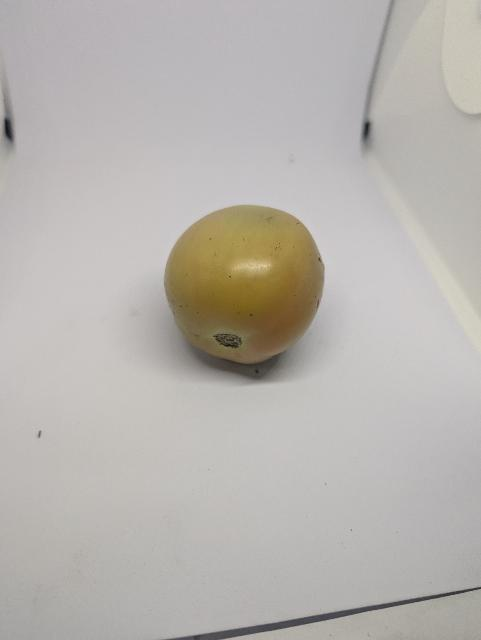breaker: (162, 205, 339, 370)
